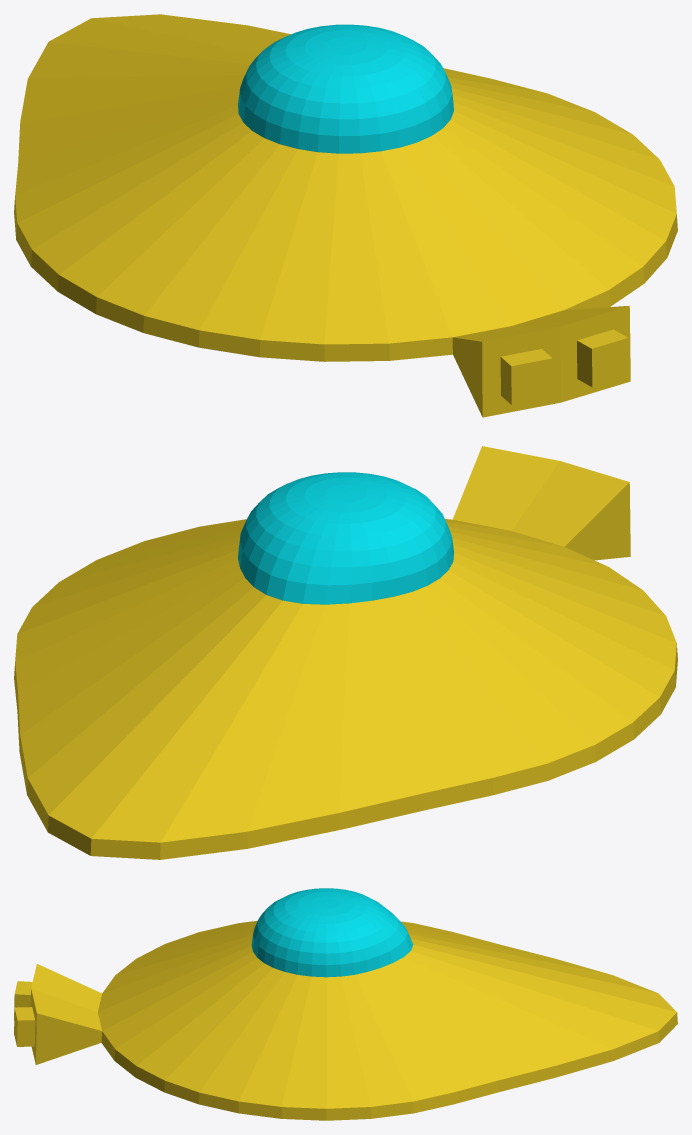
The model's file is player-custom.glb.
3 renders of one model, top to bottom at view 1: azimuth 30°, elevation 25°; view 2: azimuth 150°, elevation 25°; view 3: azimuth 270°, elevation 25°, orthographic. The views are drawn at different scales.
Parts seen in each view (by area): view 1: Sphere.001; view 2: Sphere.001; view 3: Sphere.001.
Part boxes in pixels (box(x1,y1,x2,y2)): Sphere.001: box(14, 14, 677, 417); Sphere.001: box(14, 446, 677, 859); Sphere.001: box(14, 888, 677, 1120).
Bounding box in the file's own units: 6.14 × 2.26 × 8.9.
